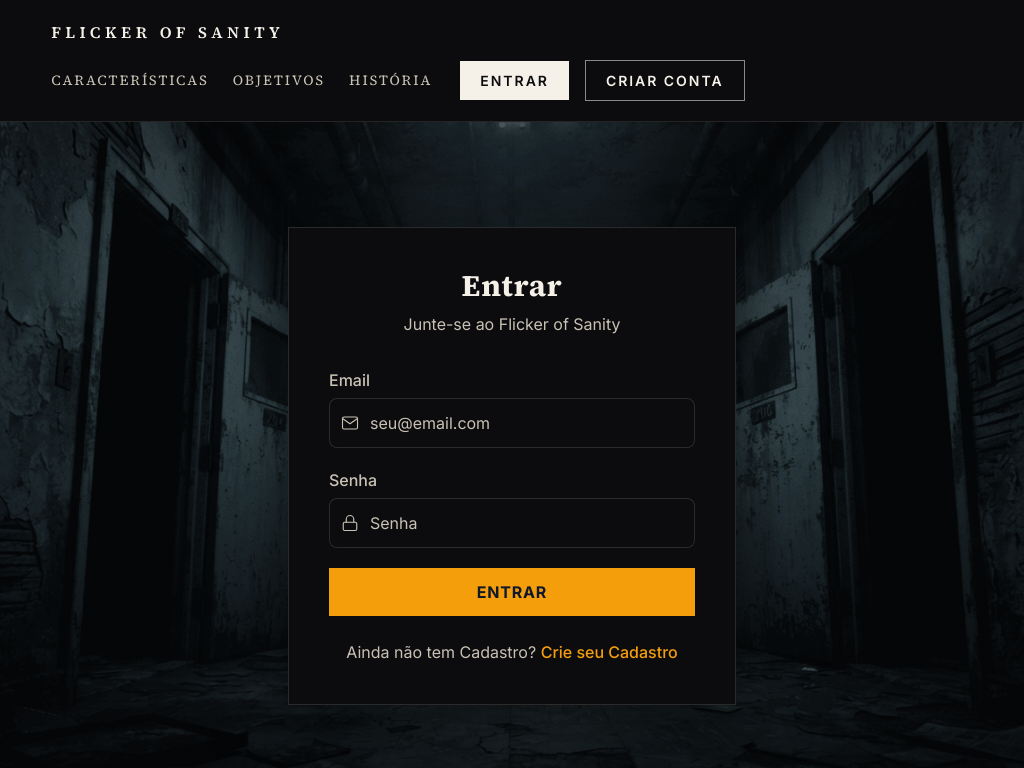
Test: homepage structure › header nav outside home redirects to home and centers the section top
Click the link "História".
click(391, 80)  # box [349,70,432,91]
(page scrolled)
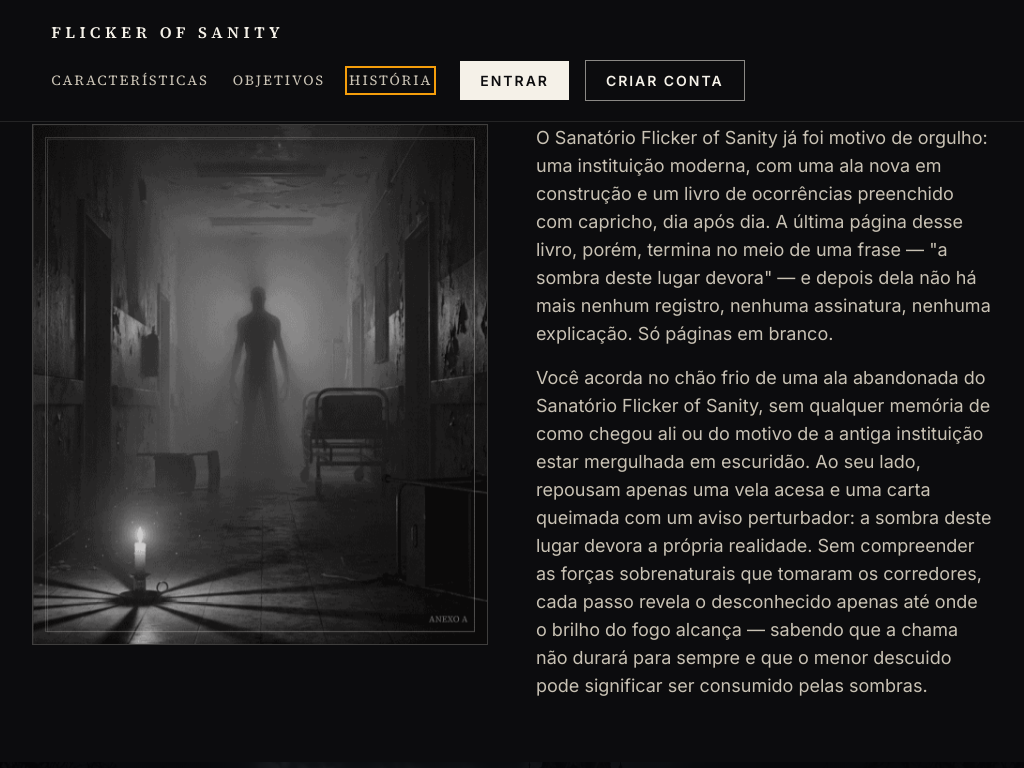
Expected: the element with id "historia" is shown
